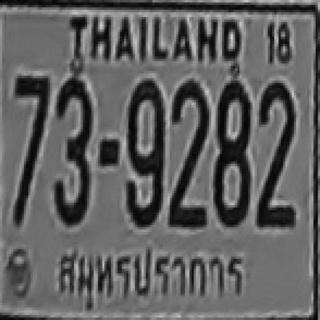N00: (126, 78, 163, 171), (216, 78, 250, 154)
N02: (256, 120, 295, 225)
N03: (52, 85, 91, 225), (52, 99, 91, 224)
N07: (13, 74, 48, 155), (13, 73, 48, 147)
N08: (211, 82, 248, 226)
N09: (124, 115, 163, 225)
P57: (51, 244, 253, 314)
